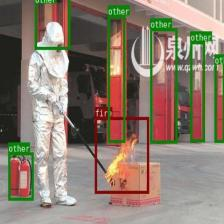fire: (94, 116, 148, 193)
